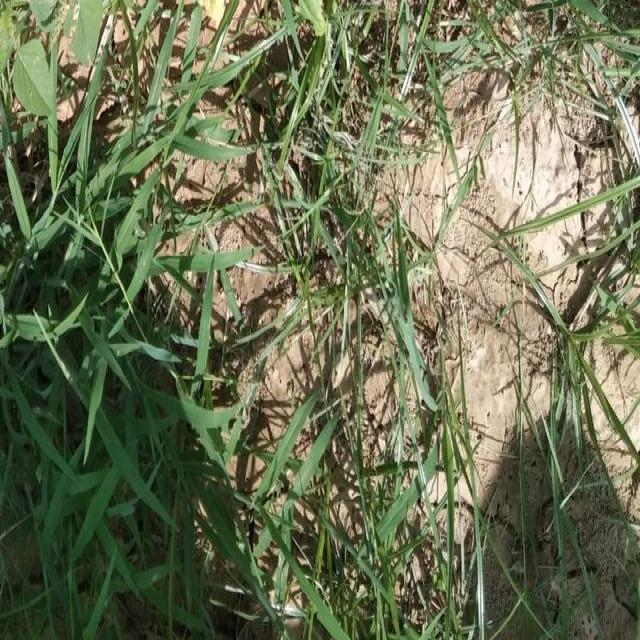weed: (0, 98, 204, 626), (513, 201, 640, 532)
